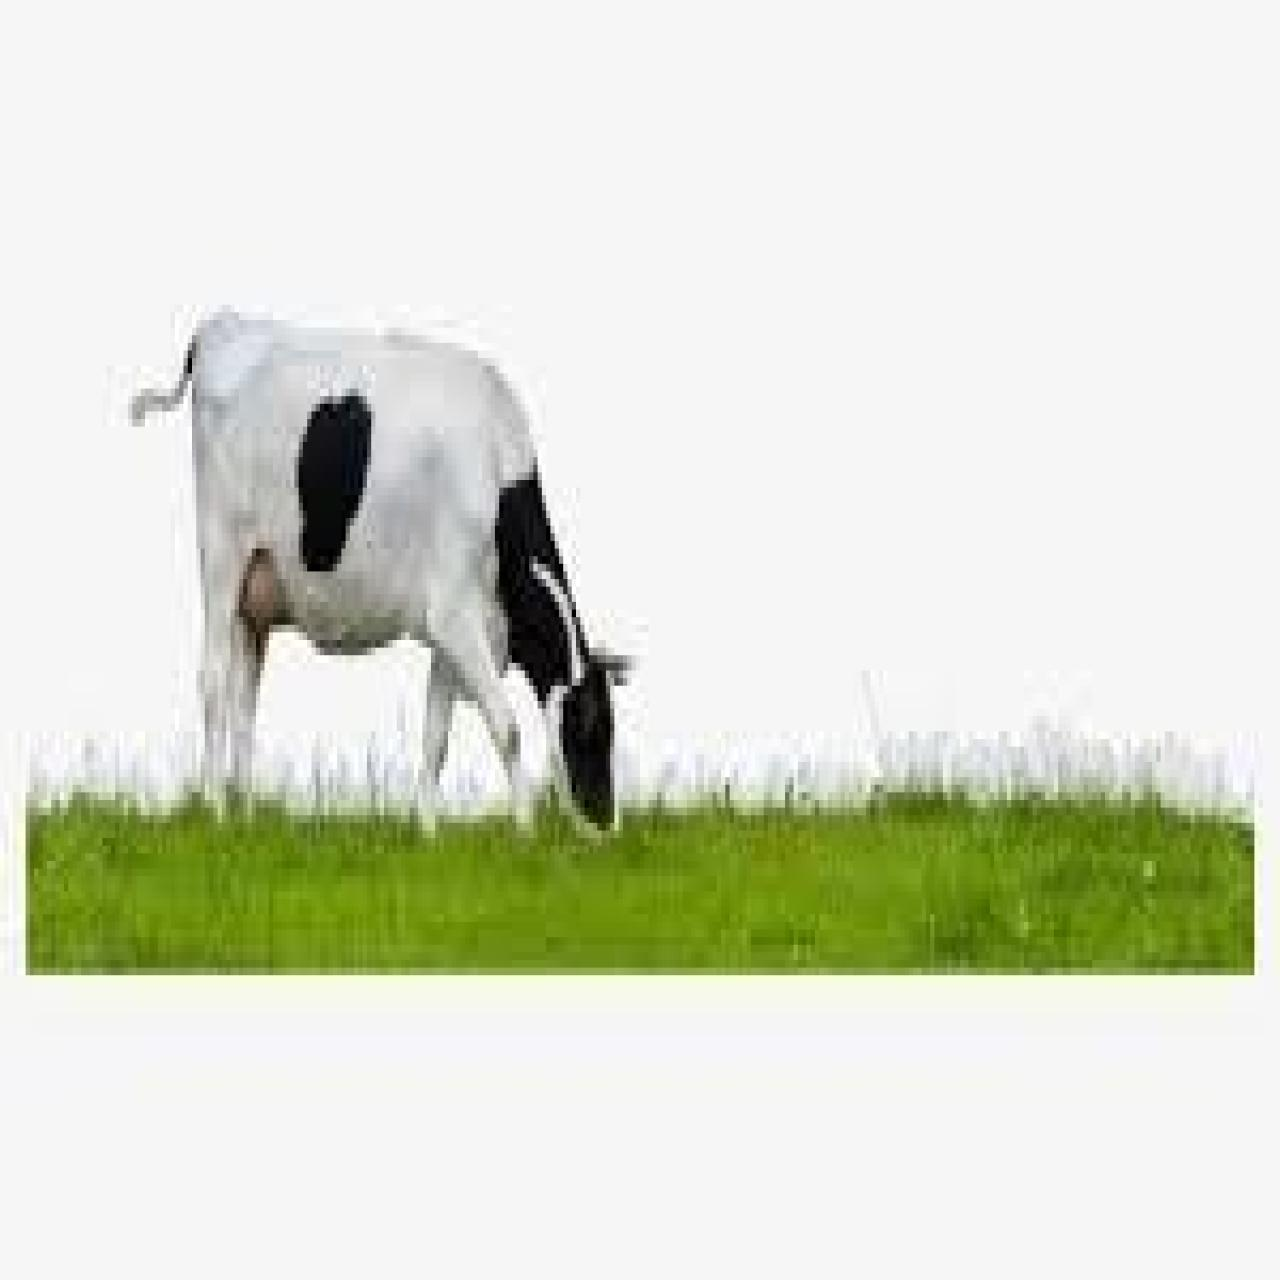cow: (190, 308, 621, 842)
